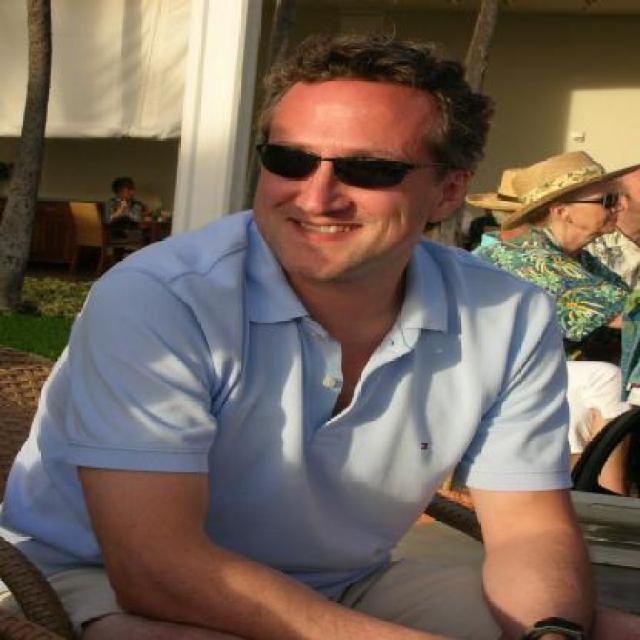face_nomask: (263, 134, 412, 251), (585, 183, 630, 243)
glasses: (252, 137, 417, 192)
head_nohelmet: (259, 37, 478, 114), (517, 150, 608, 208)
person: (85, 54, 557, 640), (475, 152, 640, 500)
